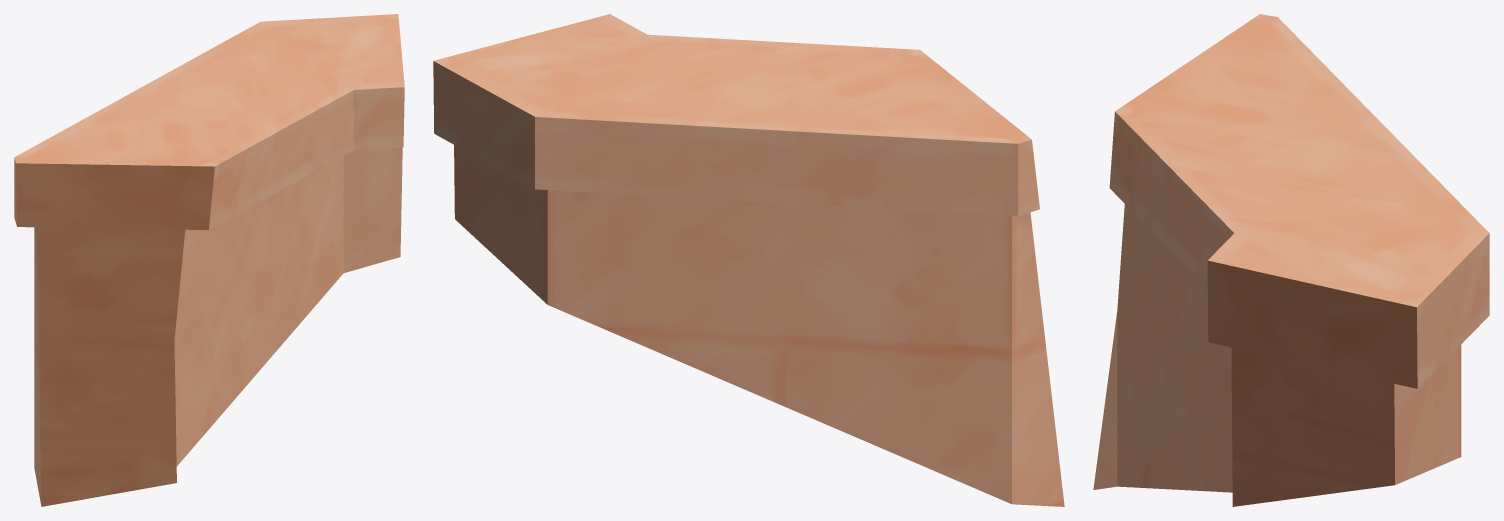
Rendered from well_s00.fbx.
The picture shows the model from 3 angles, left to right: view 1: azimuth 30°, elevation 25°; view 2: azimuth 150°, elevation 25°; view 3: azimuth 270°, elevation 25°; orthographic projection. The views are drawn at different scales.
Parts seen in each view (by area): view 1: well_s00; view 2: well_s00; view 3: well_s00.
Boxes of the visible parts, box(x1,y1,x2,y2) form: well_s00: box(14, 14, 404, 506); well_s00: box(433, 14, 1064, 506); well_s00: box(1093, 14, 1489, 506).
Bounding box in the file's own units: 2.46 × 1.72 × 1.4.
